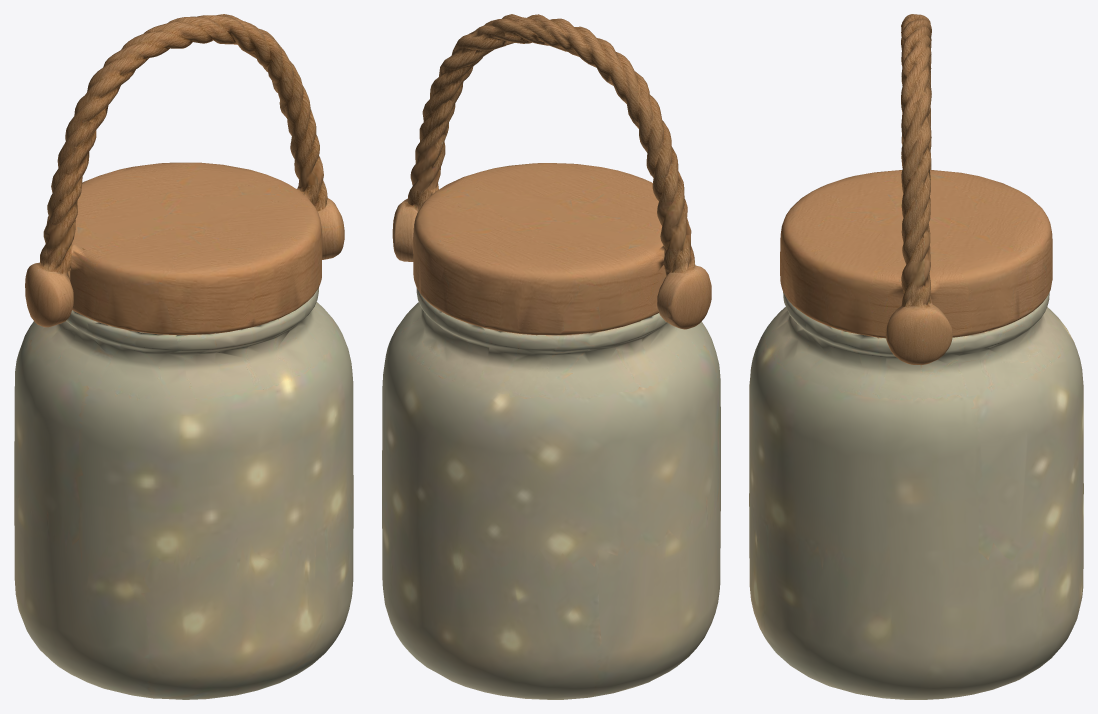
File: glowJar.glb
3 views of the same model, side by side, from view 1: azimuth 30°, elevation 25°; view 2: azimuth 150°, elevation 25°; view 3: azimuth 270°, elevation 25° (orthographic).
Bounding box in the file's own units: 0.5126 × 1 × 0.4882.
Materials: 1 (1 with a texture image).
